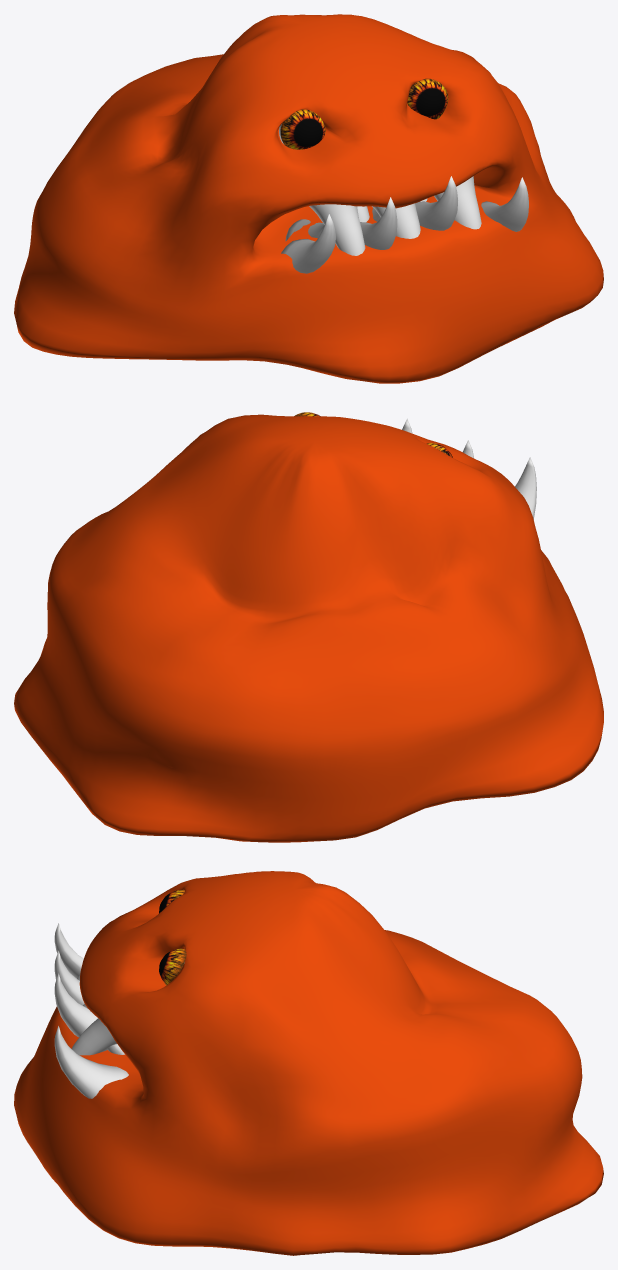
File: enemy_unten2.fbx
3 views of the same model, one above another, from view 1: azimuth 30°, elevation 25°; view 2: azimuth 150°, elevation 25°; view 3: azimuth 270°, elevation 25° (orthographic). The views are drawn at different scales.
Parts seen in each view (by area): view 1: pSphere7; view 2: pSphere7; view 3: pSphere7.
Boxes of the visible parts, x1,y1,x2,y2 form: pSphere7: (14, 14, 603, 383); pSphere7: (14, 412, 603, 842); pSphere7: (14, 871, 603, 1255).
Bounding box in the file's own units: 4.11 × 2.15 × 4.07.
